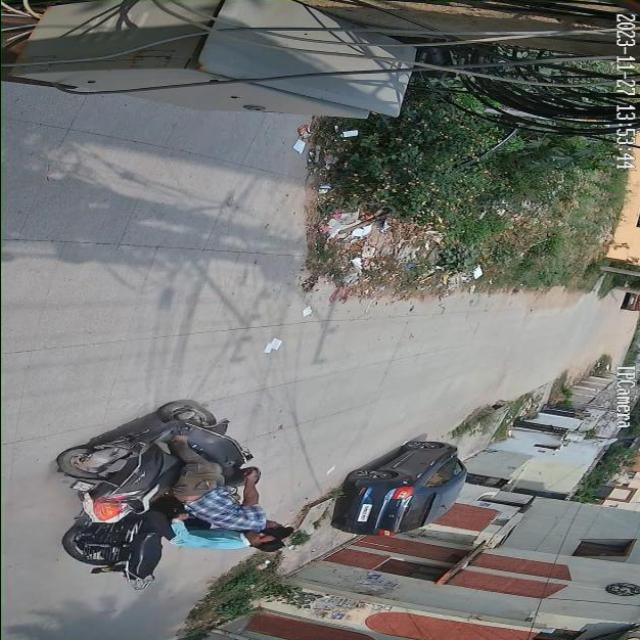accident: (49, 392, 327, 573)
